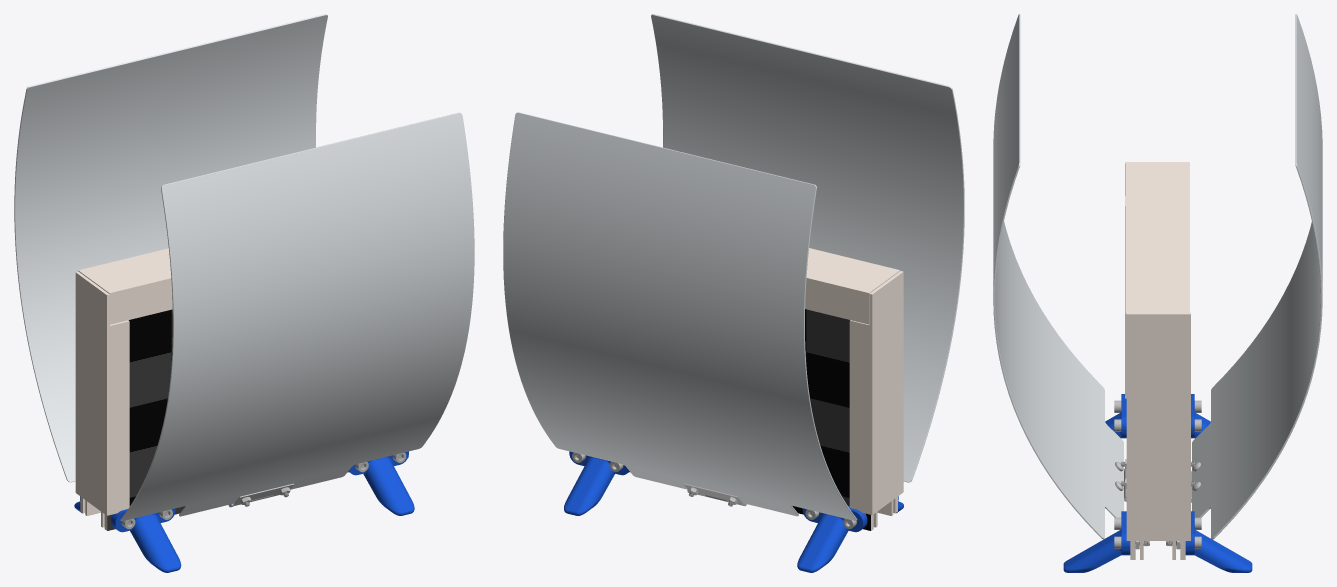
Rendered from solar-bbq.glb.
3 views of the same model, side by side, from view 1: azimuth 30°, elevation 25°; view 2: azimuth 150°, elevation 25°; view 3: azimuth 270°, elevation 25° (orthographic). The views are drawn at different scales.
Visible parts, largest first — view 1: Reflector-2, Reflector-1, Cooking plate-4, Cooking plate-2, Cooking plate-3, BBQ legs-9, BBQ legs-12; view 2: Reflector-1, Reflector-2, Cooking plate-4, Cooking plate-1, Cooking plate-3, BBQ legs-3, BBQ legs-6; view 3: Reflector-2, Reflector-1, Cooking plate-5, Cooking plate-3, BBQ legs-12, BBQ legs-6.
Boxes of the visible parts, x1,y1,x2,y2 form: Reflector-2: [120, 112, 474, 521]; Reflector-1: [14, 14, 327, 482]; Cooking plate-4: [75, 271, 129, 515]; Cooking plate-2: [104, 309, 408, 530]; Cooking plate-3: [78, 248, 172, 324]; BBQ legs-9: [111, 508, 181, 572]; BBQ legs-12: [348, 451, 414, 515]; Reflector-1: [503, 112, 857, 520]; Reflector-2: [651, 14, 964, 482]; Cooking plate-4: [849, 271, 903, 514]; Cooking plate-1: [629, 309, 873, 530]; Cooking plate-3: [805, 248, 900, 324]; BBQ legs-3: [797, 506, 867, 572]; BBQ legs-6: [564, 451, 629, 515]; Reflector-2: [993, 14, 1123, 539]; Reflector-1: [1192, 14, 1322, 539]; Cooking plate-5: [1126, 312, 1190, 540]; Cooking plate-3: [1125, 162, 1189, 346]; BBQ legs-12: [1063, 511, 1130, 572]; BBQ legs-6: [1185, 511, 1252, 572].
Bounding box in the file's own units: 0.204 × 0.2609 × 0.1842.
Materials: 13 (1 with a texture image).
